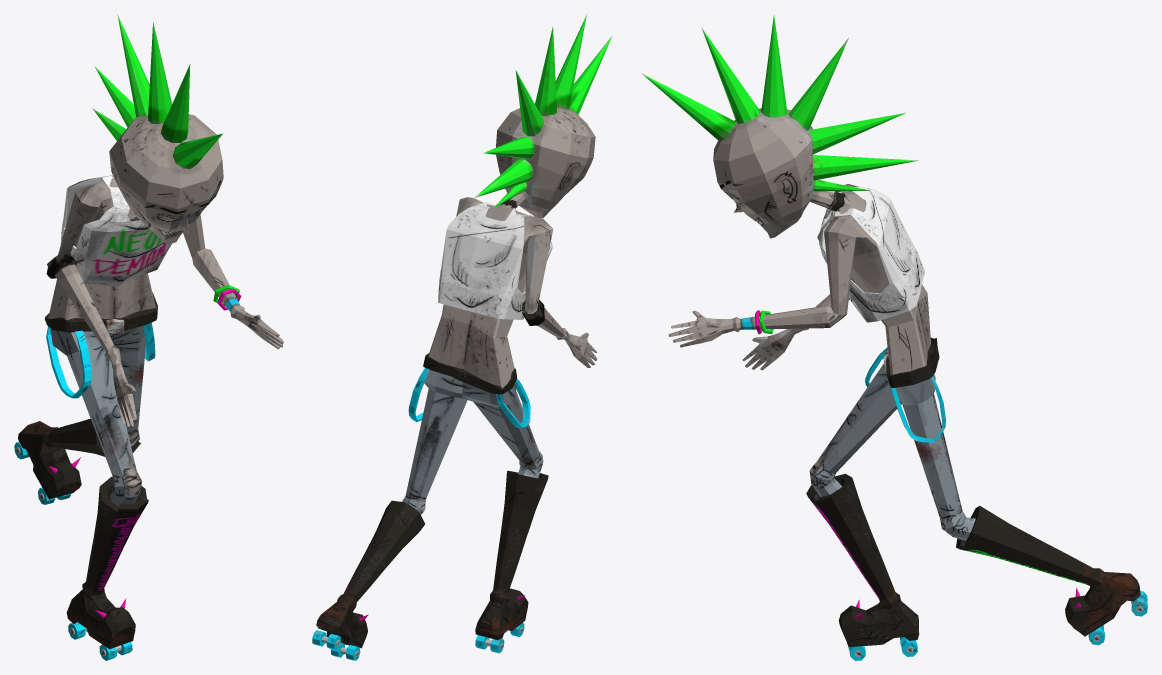
Rendered from punkAnimation_000049.obj.
3 renders of one model, left to right at view 1: azimuth 30°, elevation 25°; view 2: azimuth 150°, elevation 25°; view 3: azimuth 270°, elevation 25°, orthographic. The views are drawn at different scales.
Parts seen in each view (by area): view 1: Cube.004_Cube.003; view 2: Cube.004_Cube.003; view 3: Cube.004_Cube.003.
Part boxes in pixels (x1,y1,x2,y2): Cube.004_Cube.003: (14,14,283,660); Cube.004_Cube.003: (312,14,612,660); Cube.004_Cube.003: (642,15,1147,660).
Bounding box in the file's own units: 1.46 × 6.77 × 4.86.
